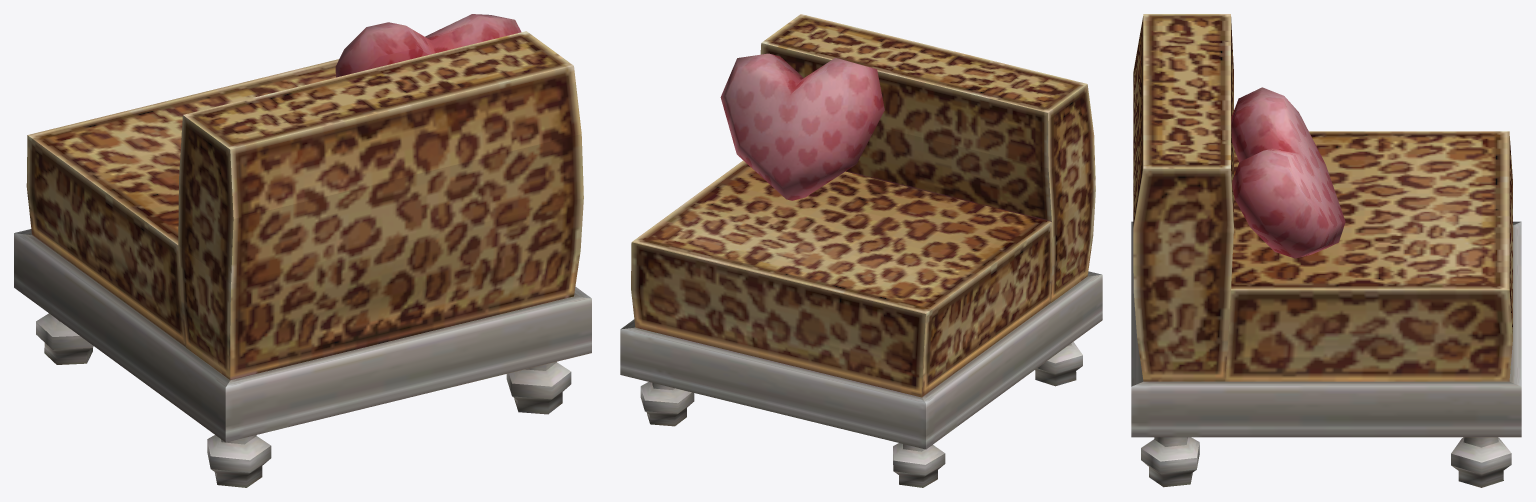
Rendered from furni_0200096.FBX.
3 views of the same model, side by side, from view 1: azimuth 30°, elevation 25°; view 2: azimuth 150°, elevation 25°; view 3: azimuth 270°, elevation 25° (orthographic). The views are drawn at different scales.
Visible parts, largest first — view 1: furni_0200096; view 2: furni_0200096; view 3: furni_0200096.
Boxes of the visible parts, x1,y1,x2,y2 form: furni_0200096: [14, 14, 591, 487]; furni_0200096: [620, 14, 1102, 487]; furni_0200096: [1131, 14, 1521, 487].
Bounding box in the file's own units: 81.16 × 76.1 × 80.
